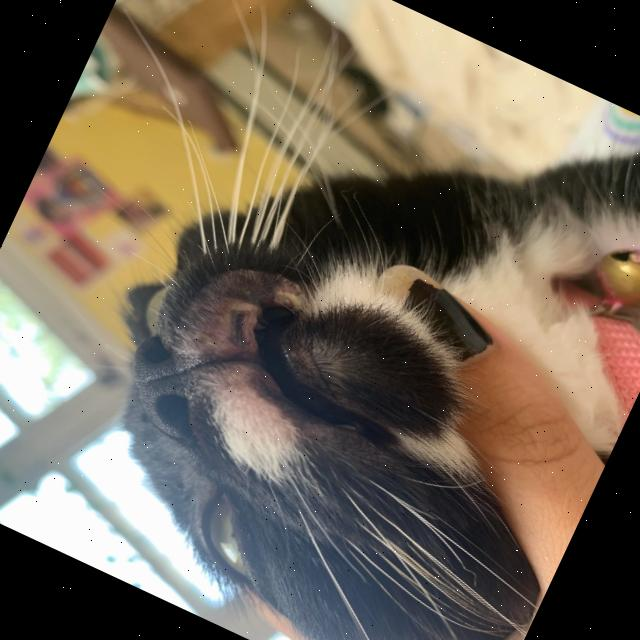cat-ulcer: (214, 297, 266, 355)
